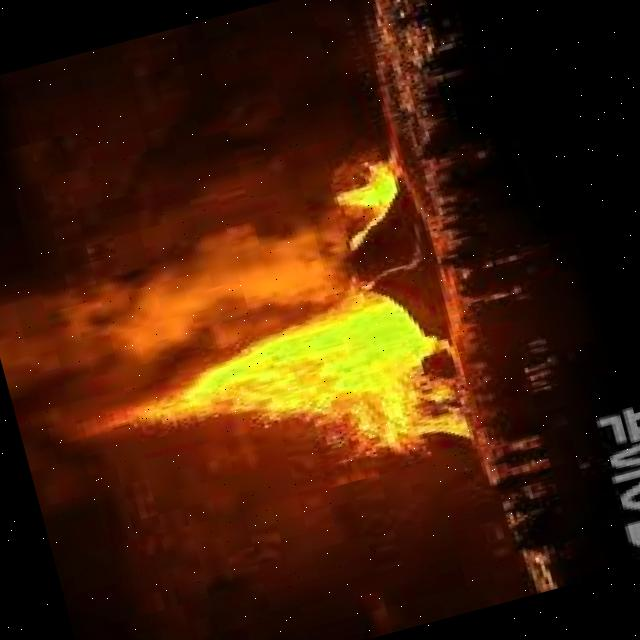explosion: (4, 91, 560, 565)
